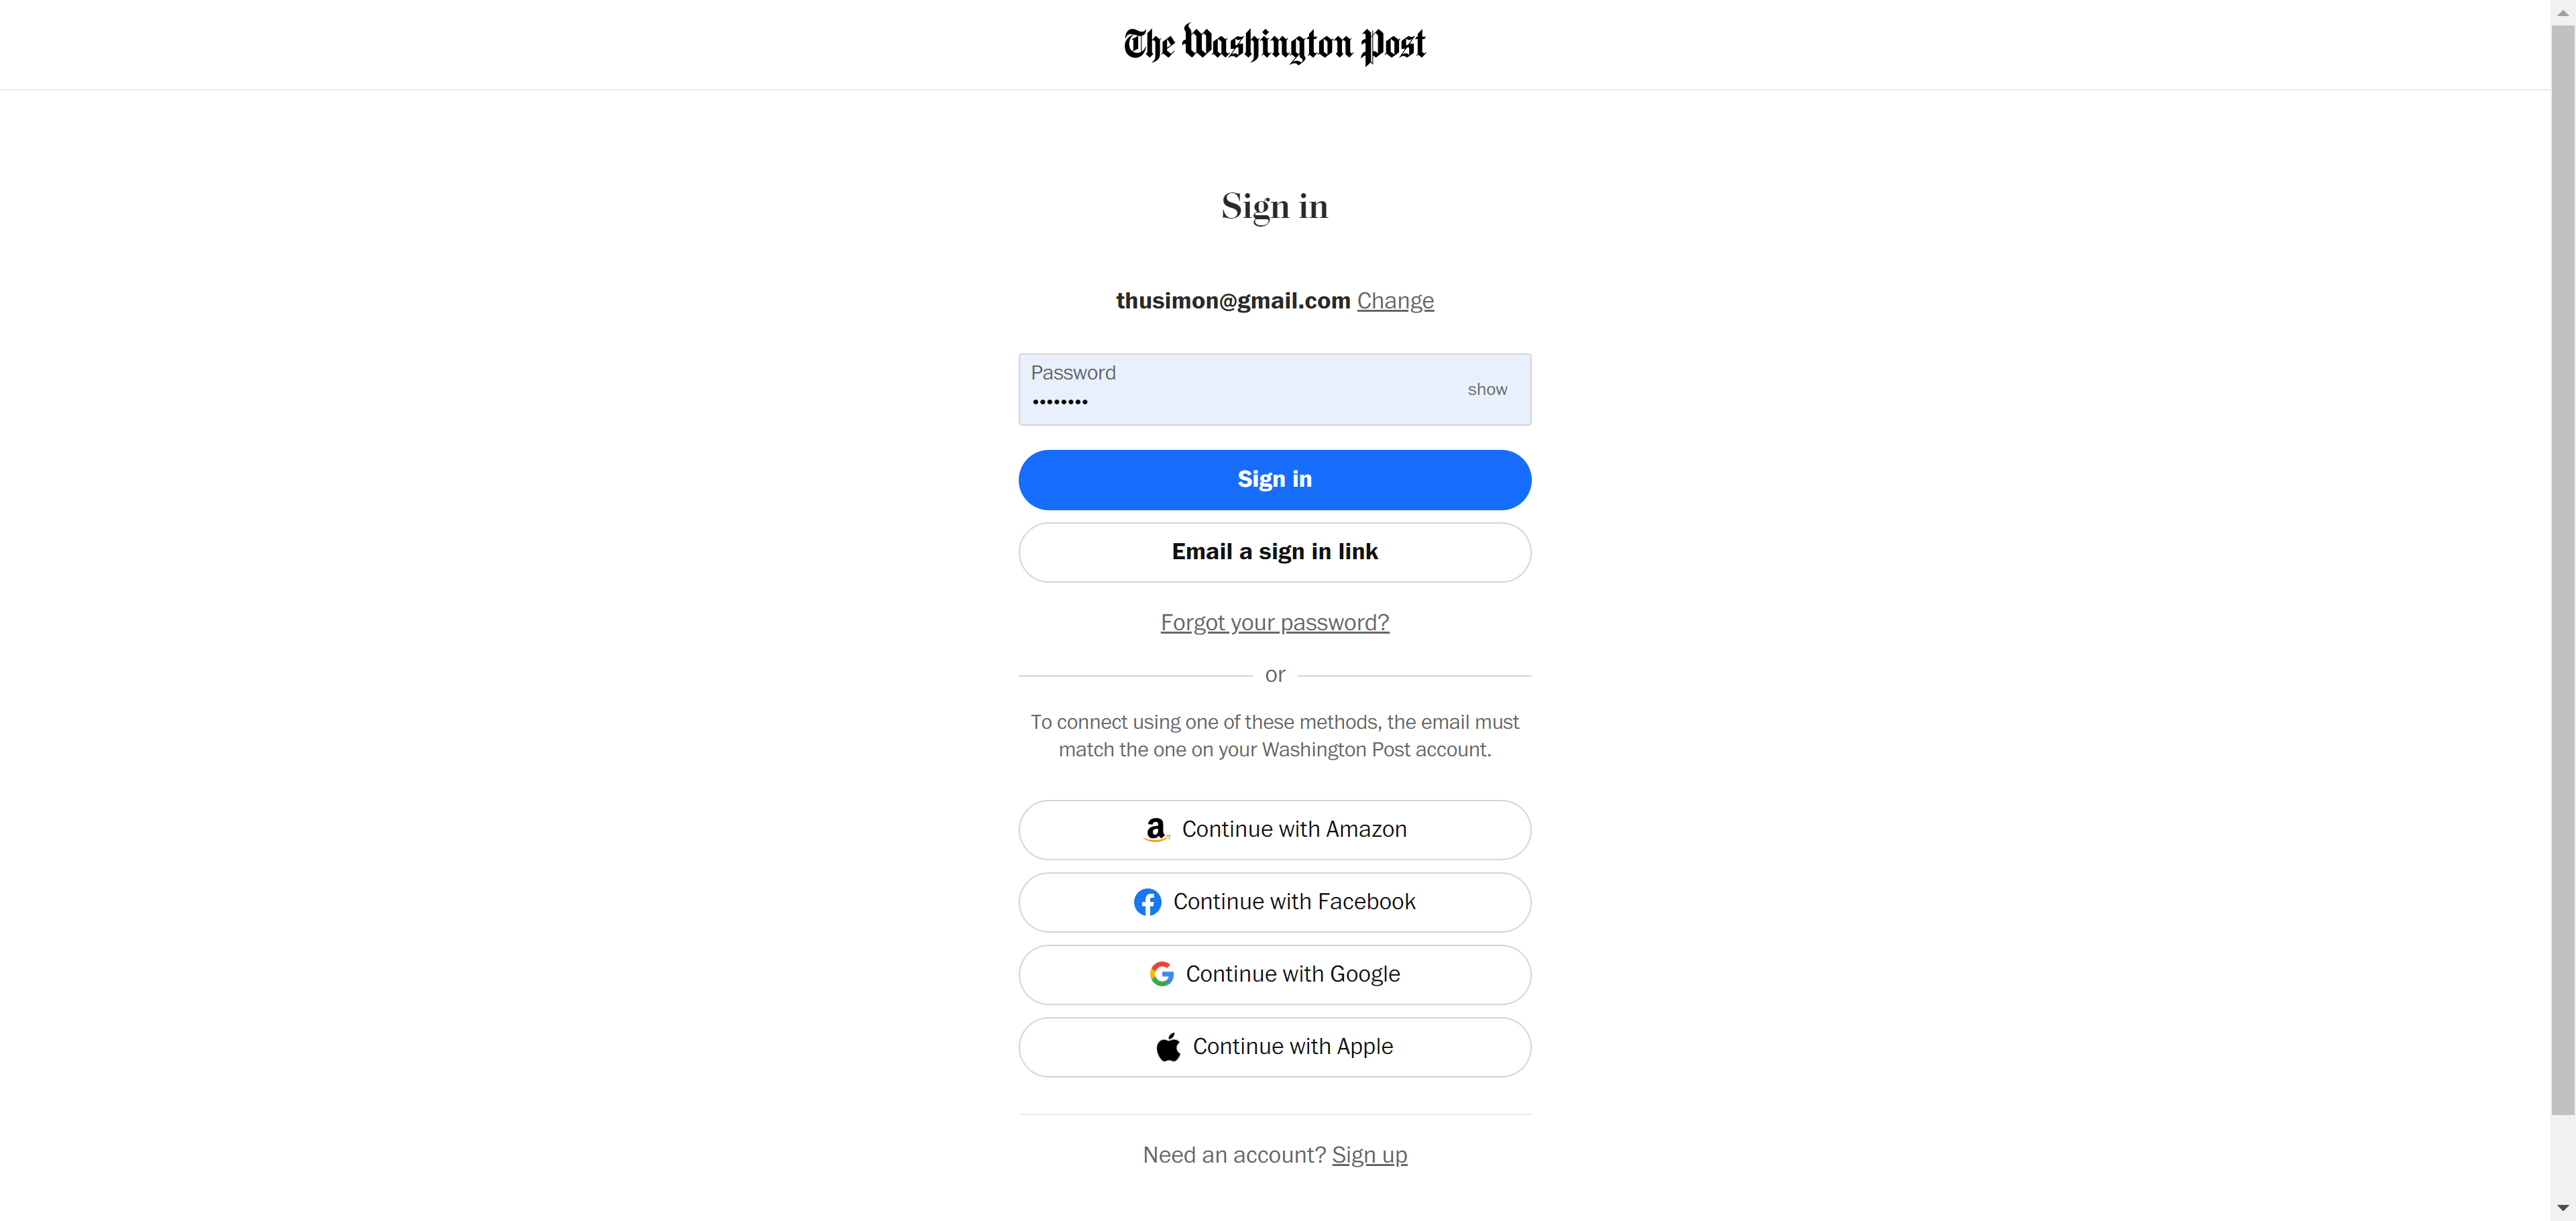login_button: (1019, 450, 1533, 511)
login_form: (1012, 347, 1538, 516)
